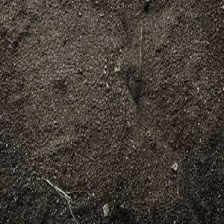loamy_soil: (12, 18, 196, 209)
